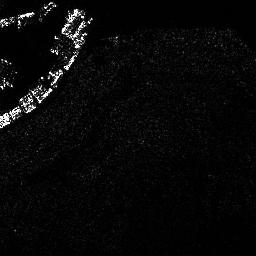ship: (37, 1, 55, 21)
